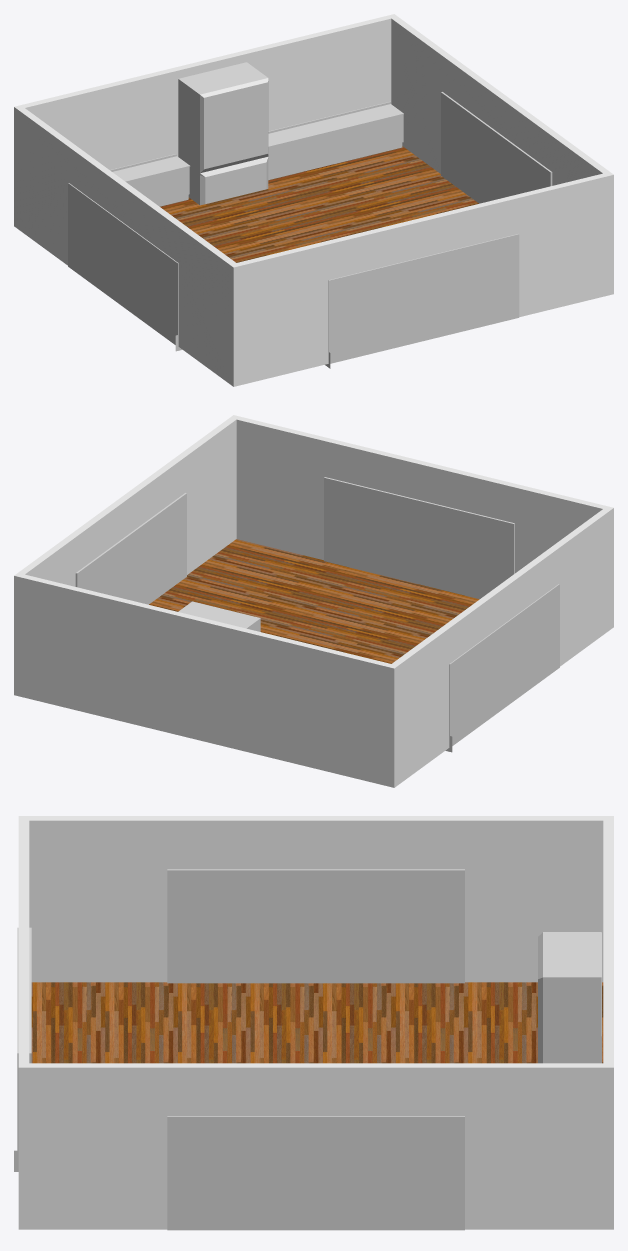
The model's file is kitchen_blender.glb.
3 views of the same model, one above another, from view 1: azimuth 30°, elevation 25°; view 2: azimuth 150°, elevation 25°; view 3: azimuth 270°, elevation 25° (orthographic). The views are drawn at different scales.
Visible parts, largest first — view 1: SketchUp.001, SketchUp, CTRL_Hole, Cube, CTRL_Hole.001, CTRL_Hole.002, Cabinet1_Door, Countertop1, Cabinet1_Door.002, Countertop1.002, Baseboard1; view 2: SketchUp.001, SketchUp, CTRL_Hole, CTRL_Hole.001, CTRL_Hole.002, Cube; view 3: SketchUp.001, SketchUp, CTRL_Hole.001, CTRL_Hole.002, Cube, CTRL_Hole.
Boxes of the visible parts, bbox=[...] form: SketchUp.001: bbox=[14, 14, 613, 386]; SketchUp: bbox=[160, 146, 478, 262]; CTRL_Hole: bbox=[328, 234, 519, 363]; Cube: bbox=[178, 62, 268, 205]; CTRL_Hole.001: bbox=[68, 183, 178, 344]; CTRL_Hole.002: bbox=[441, 92, 552, 203]; Cabinet1_Door: bbox=[268, 114, 403, 174]; Countertop1: bbox=[268, 101, 403, 147]; Cabinet1_Door.002: bbox=[126, 167, 189, 202]; Countertop1.002: bbox=[110, 154, 190, 181]; Baseboard1: bbox=[268, 142, 402, 179]; SketchUp.001: bbox=[14, 415, 613, 787]; SketchUp: bbox=[149, 539, 479, 663]; CTRL_Hole: bbox=[324, 477, 514, 598]; CTRL_Hole.001: bbox=[449, 584, 559, 747]; CTRL_Hole.002: bbox=[75, 493, 186, 604]; Cube: bbox=[178, 601, 260, 631]; SketchUp.001: bbox=[18, 816, 613, 1229]; SketchUp: bbox=[31, 982, 603, 1063]; CTRL_Hole.001: bbox=[167, 869, 464, 983]; CTRL_Hole.002: bbox=[167, 1116, 464, 1230]; Cube: bbox=[538, 932, 601, 1063]; CTRL_Hole: bbox=[17, 927, 31, 1165].
Bounding box in the file's own units: 10.15 × 3.1 × 10.08.
2 materials, 1 textured.
